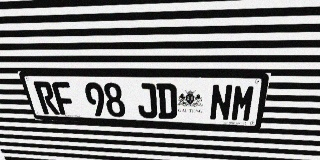8: (102, 82, 126, 117)
9: (83, 82, 108, 116)
D: (156, 83, 177, 119)
F: (51, 82, 77, 115)
J: (136, 83, 158, 118)
M: (230, 84, 257, 122)
N: (209, 84, 233, 121)
R: (33, 81, 60, 115)
